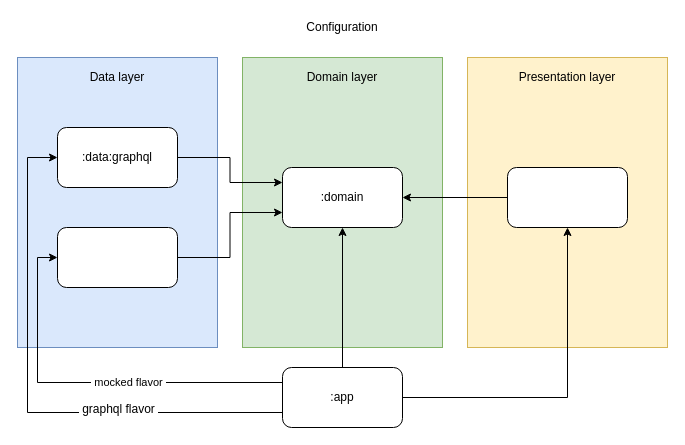
Some shapes in this 685 by 445 pixel diagram are drawn without their labels. Each missing label, with the box of its shape:
:data:mocked: (56, 226, 178, 288)
:presentation: (506, 166, 628, 228)
